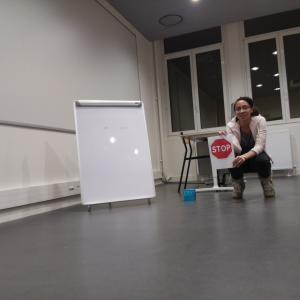big: (72, 98, 157, 207)
small: (182, 188, 198, 202)
